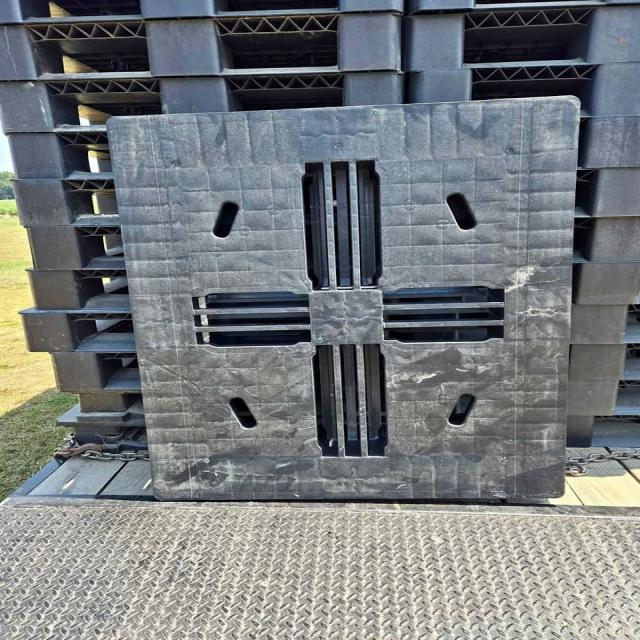non-igps: (96, 92, 593, 508), (0, 0, 640, 133), (0, 130, 168, 457)
